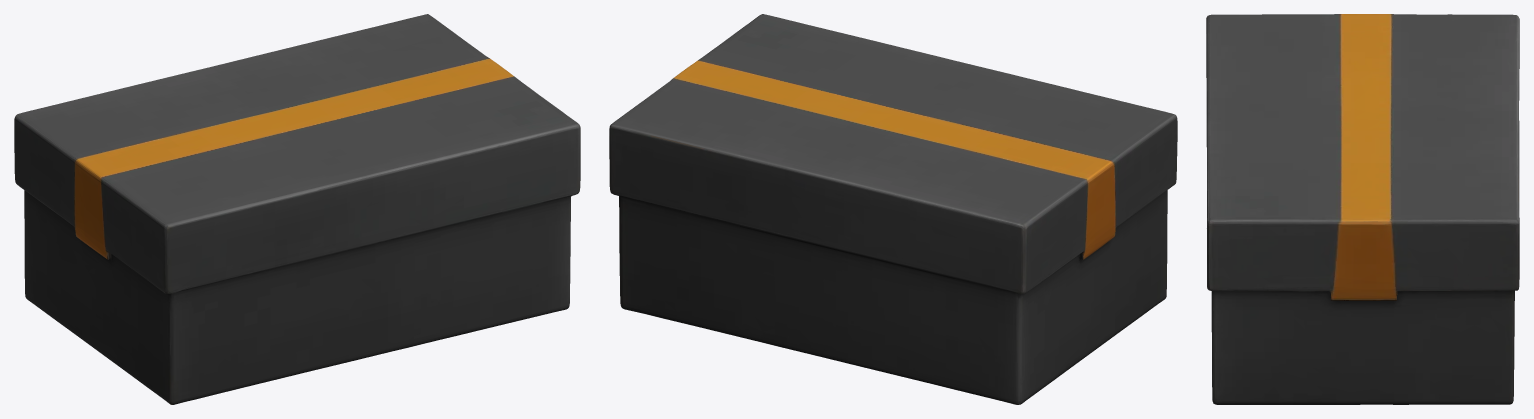
3 views of the same model, side by side, from view 1: azimuth 30°, elevation 25°; view 2: azimuth 150°, elevation 25°; view 3: azimuth 270°, elevation 25° (orthographic). The views are drawn at different scales.
Visible parts, largest first — view 1: geometry_0; view 2: geometry_0; view 3: geometry_0.
Boxes of the visible parts, <box> form: geometry_0: <box>14,14,580,404</box>; geometry_0: <box>609,14,1177,404</box>; geometry_0: <box>1206,14,1519,404</box>.
Bounding box in the file's own units: 0.9963 × 0.4247 × 0.6343.
1 material, 1 textured.
